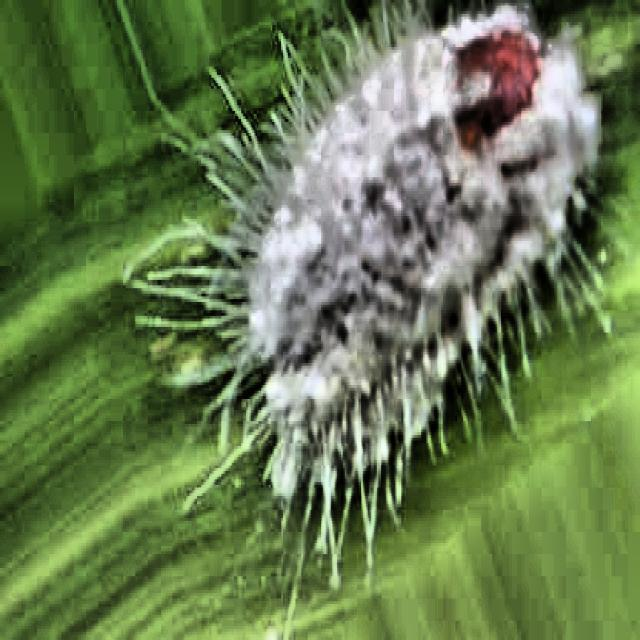Mealy-bug: (189, 5, 602, 510)
